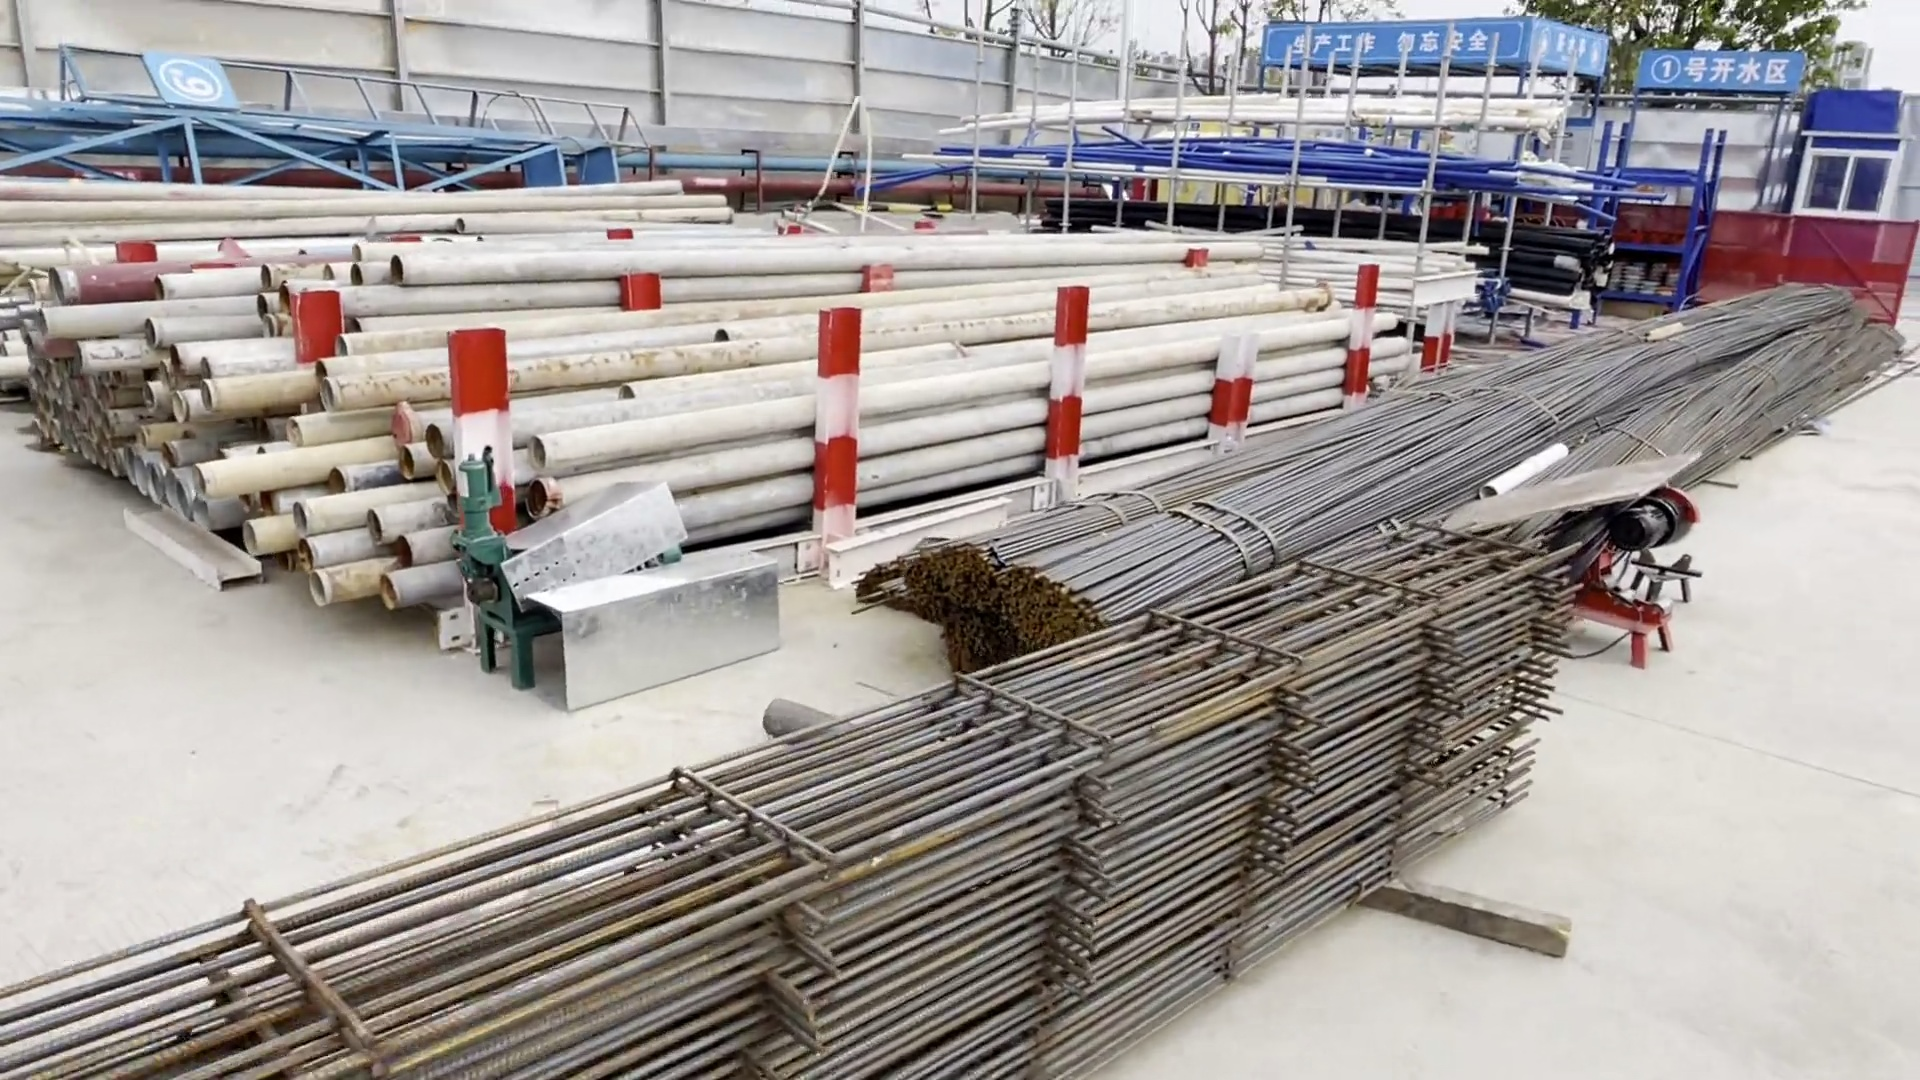fence: (1633, 211, 1911, 306)
rebar: (3, 521, 1557, 1077), (924, 295, 1890, 675)
slogan: (1270, 25, 1528, 61)
